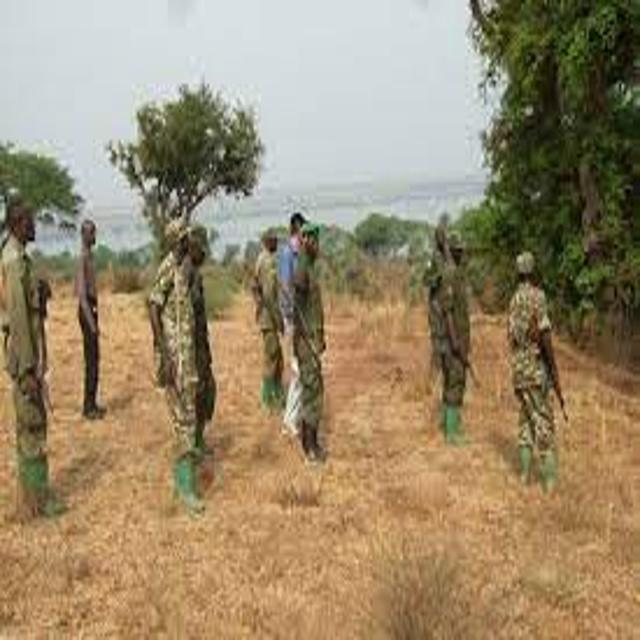poacher: (53, 207, 147, 440), (263, 184, 332, 465)
ranger: (126, 206, 246, 529), (2, 183, 107, 551), (488, 237, 594, 513), (273, 214, 368, 481), (399, 213, 497, 463), (221, 216, 304, 424)
